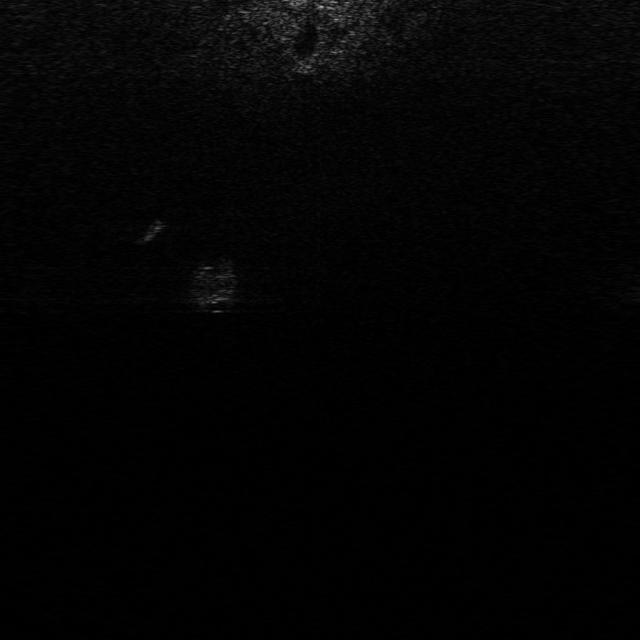circle cage: (178, 257, 262, 317)
cylinder: (130, 213, 172, 251)
